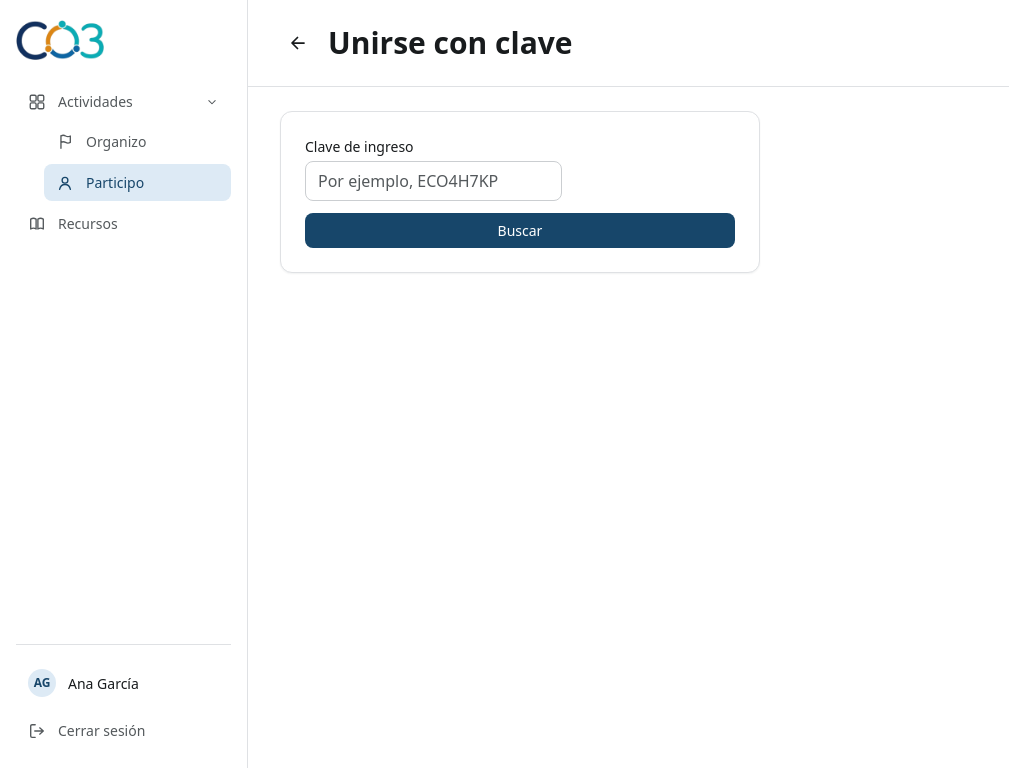
PantallaUnirseConClave › muestra un error y permite reintentar si la clave no corresponde a nada
In the field labelled "Clave de ingreso": coordinates (434, 180) [305,160,562,200], type "NOEXISTE"
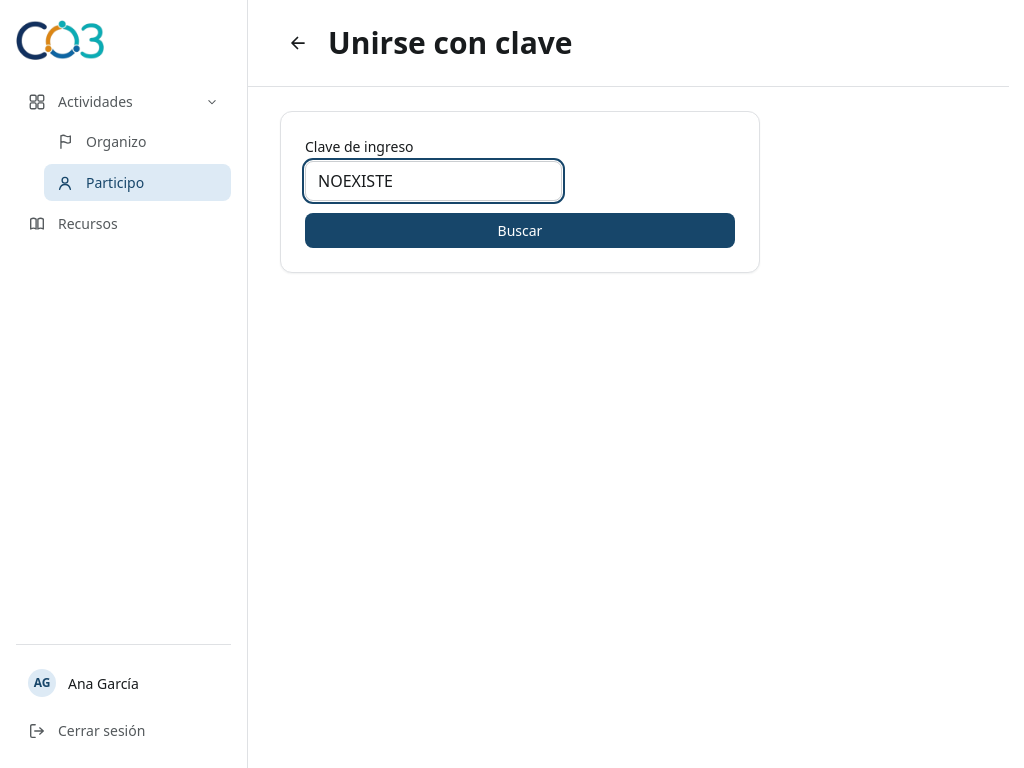
Click the button "Buscar": coordinates (520, 230) [305,212,735,248]
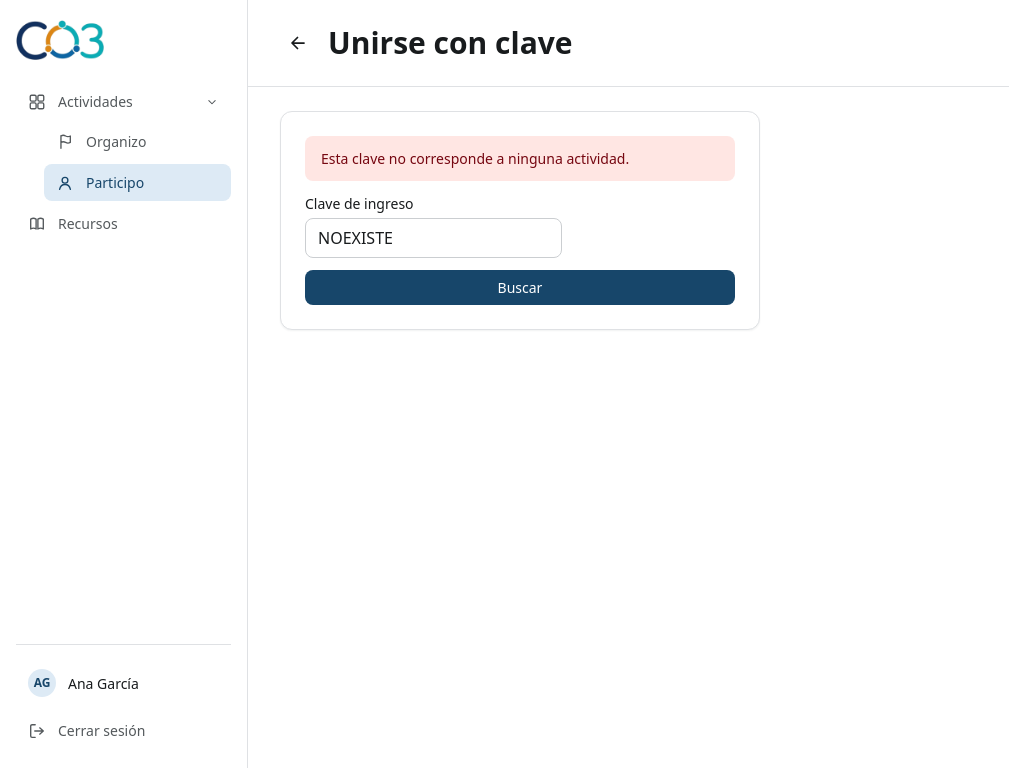
expect the field labelled "Clave de ingreso" is shown: met, box [305,218,562,258]
expect the text "Esta clave no corresponde a ninguna actividad." is shown: met, box [305,136,735,180]
